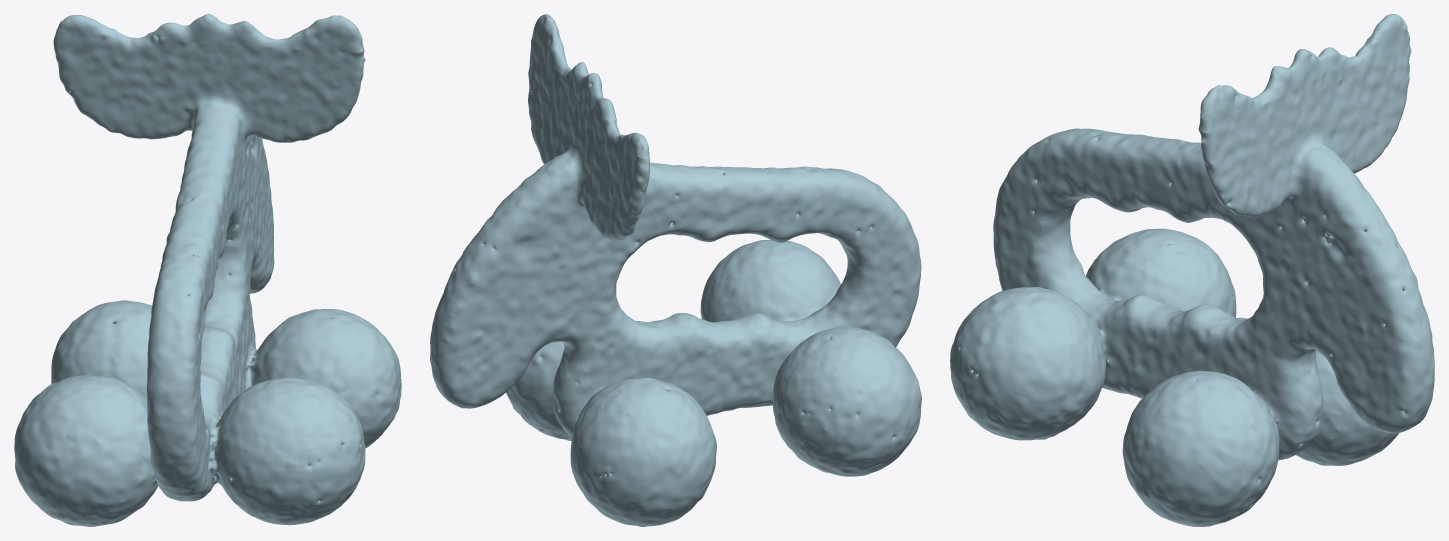
File: ours.glb
The picture shows the model from 3 angles, left to right: view 1: azimuth 30°, elevation 25°; view 2: azimuth 150°, elevation 25°; view 3: azimuth 270°, elevation 25°; orthographic projection. The views are drawn at different scales.
Parts seen in each view (by area): view 1: elk.obj; view 2: elk.obj; view 3: elk.obj.
Boxes of the visible parts, x1=… form: elk.obj: x1=14, y1=14, x2=401, y2=526; elk.obj: x1=430, y1=14, x2=921, y2=526; elk.obj: x1=950, y1=14, x2=1434, y2=526.
Size of the model in its own units: 0.9497 by 1.01 by 0.9883.
